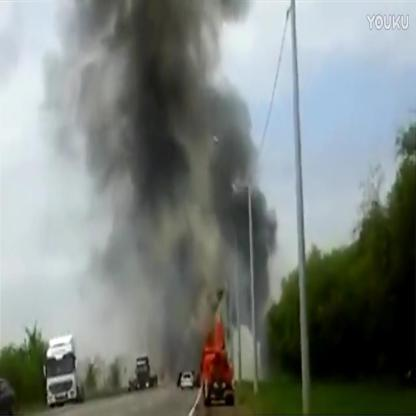smoke: (132, 194, 277, 330), (44, 4, 148, 191), (151, 3, 252, 192), (156, 331, 204, 379)
